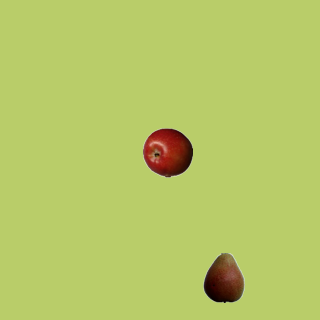Apple Braeburn: (142, 127, 192, 177)
Pear Forelle: (198, 252, 248, 302)
